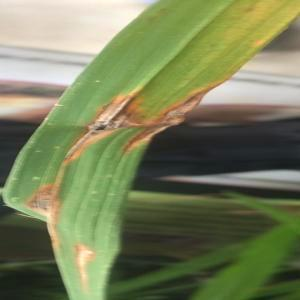1 RiceBlast: (126, 79, 229, 162), (63, 79, 148, 177), (11, 176, 69, 246), (64, 229, 114, 292)
